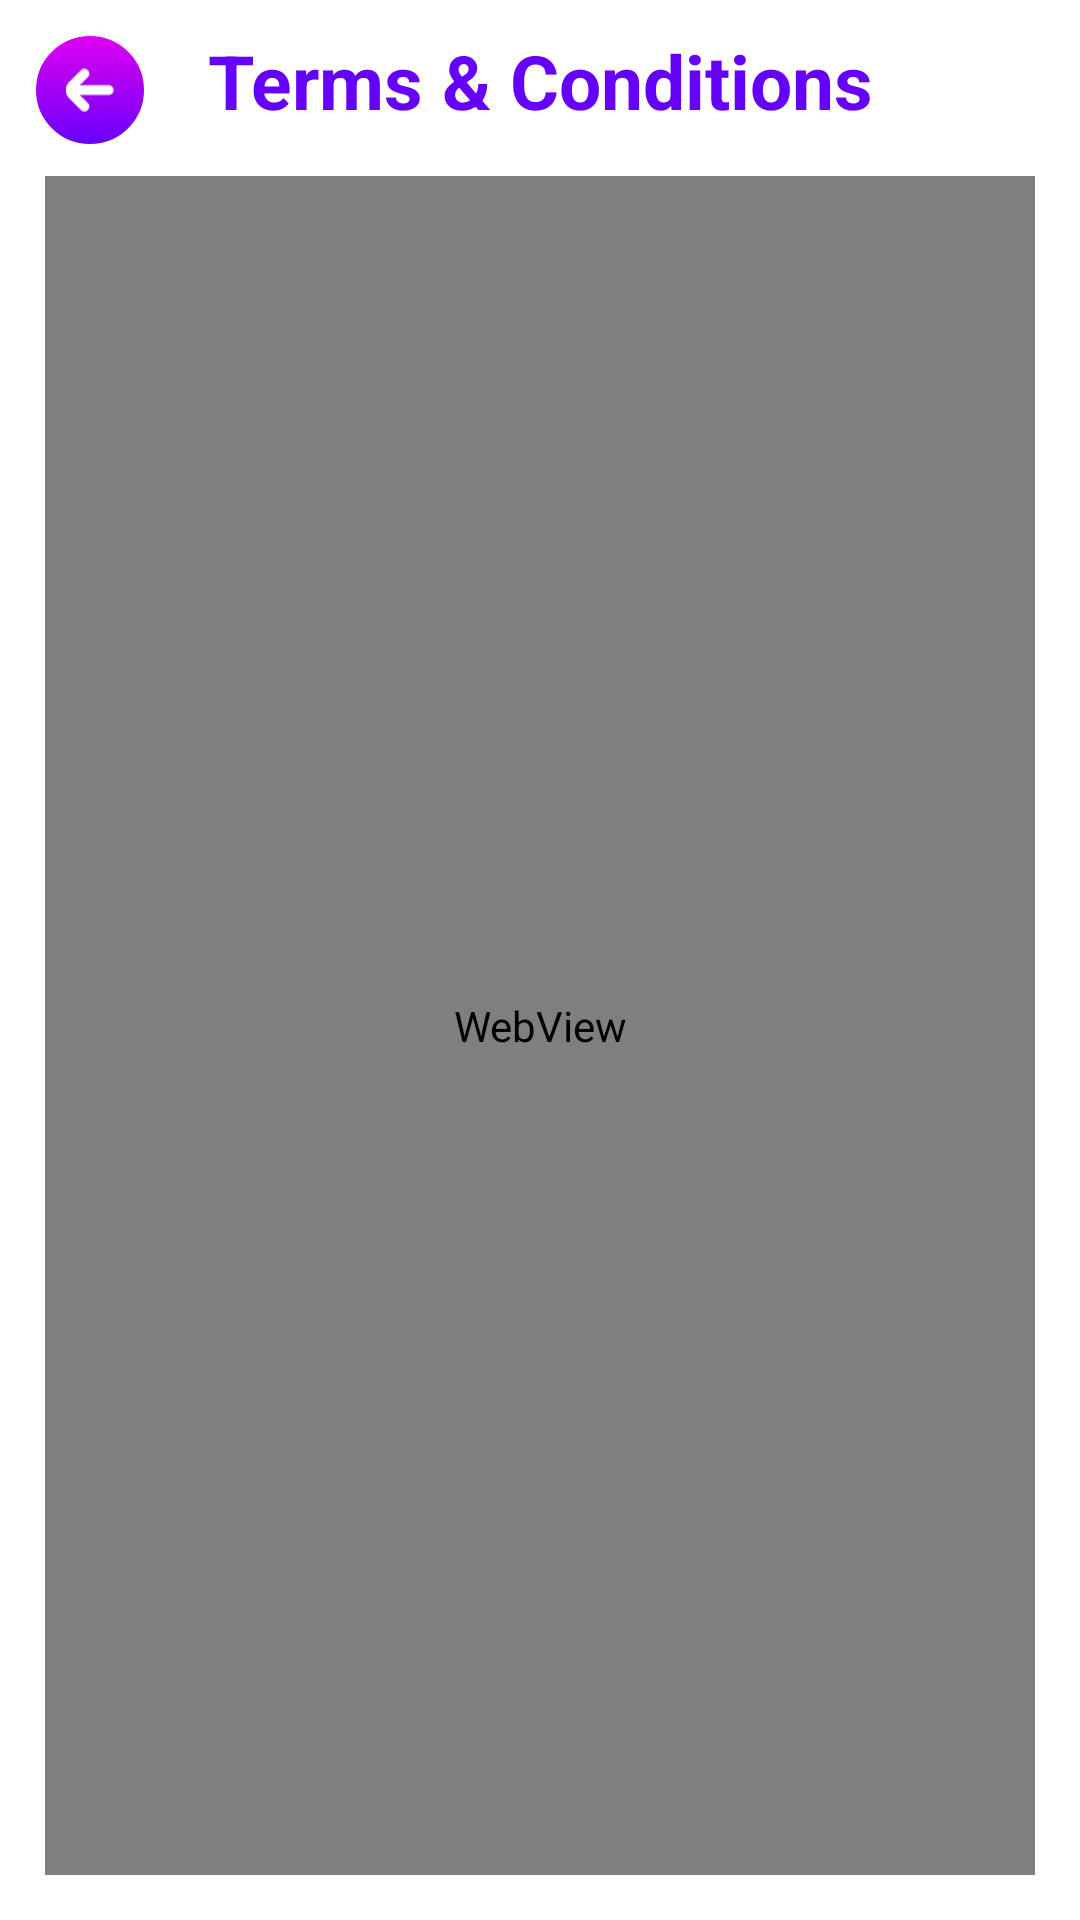

Icons on this 1080×1920 Android screen, each with its box as (x1, y1, x2, y2):
back arrow: (36, 36, 144, 144)
